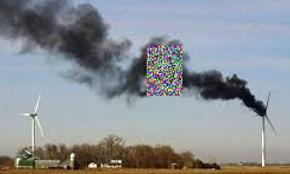faulty: (227, 73, 278, 138)
